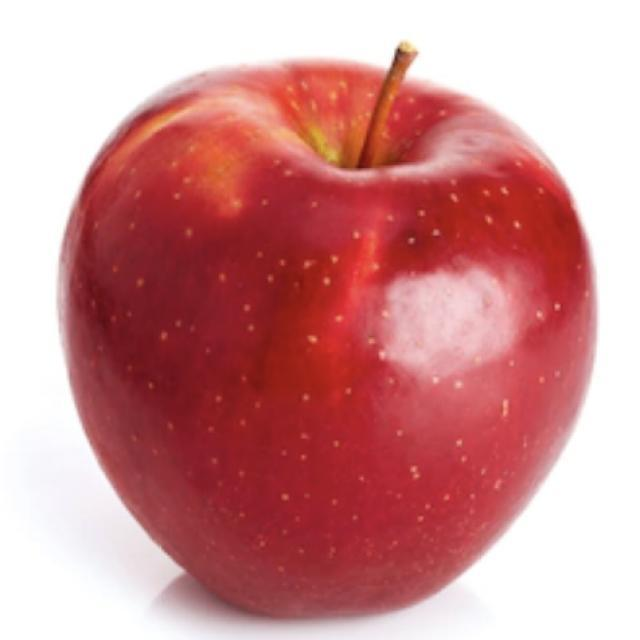Fresh Apple: (47, 50, 603, 617)
